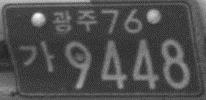4: (131, 37, 160, 90), (98, 38, 127, 88)
6: (123, 7, 143, 34)
7: (100, 7, 119, 35)
8: (161, 39, 191, 90)
9: (63, 39, 92, 89)
가: (18, 41, 55, 74)
광주_O: (51, 8, 97, 33)
